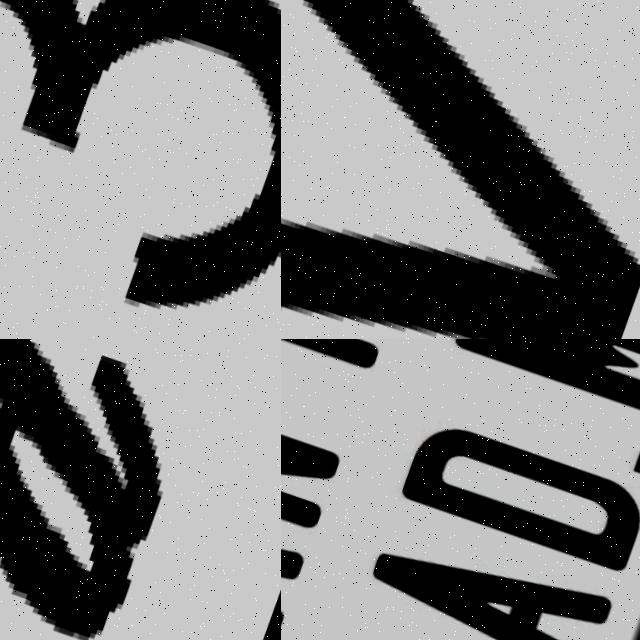3: (0, 0, 281, 339)
A: (345, 506, 615, 640)
D: (0, 339, 281, 640), (387, 401, 640, 601)
M: (443, 339, 640, 451)
N: (281, 356, 342, 552)
V: (281, 0, 640, 339)
